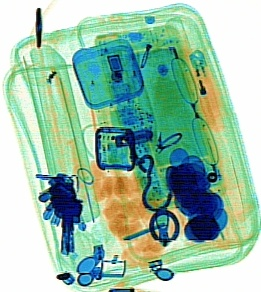lighter: (184, 45, 224, 130)
